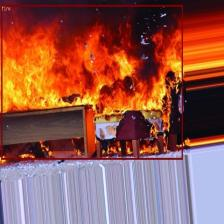fire: (1, 5, 183, 159)
